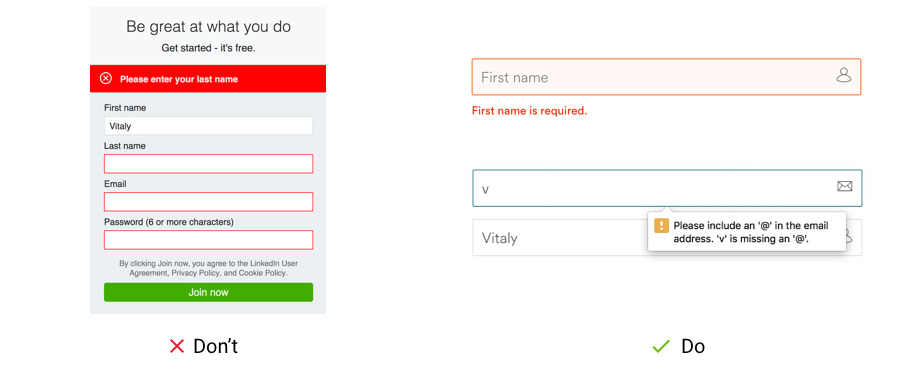error_field: (470, 57, 863, 97), (103, 190, 315, 213), (103, 229, 316, 251), (103, 153, 315, 174)
error_message: (98, 71, 245, 86), (470, 103, 590, 117)
